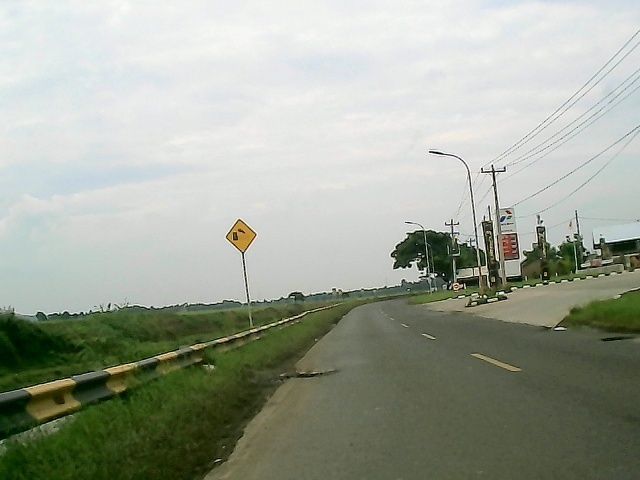Peringatan tepi air: (224, 218, 258, 254)
